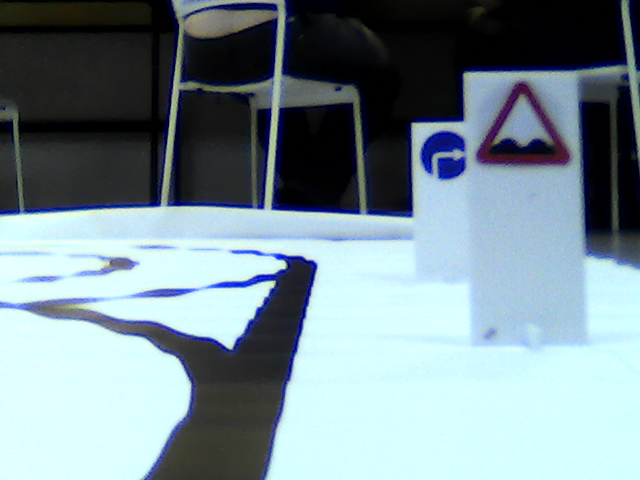Nerov: (476, 80, 570, 168)
Right: (419, 131, 466, 181)
